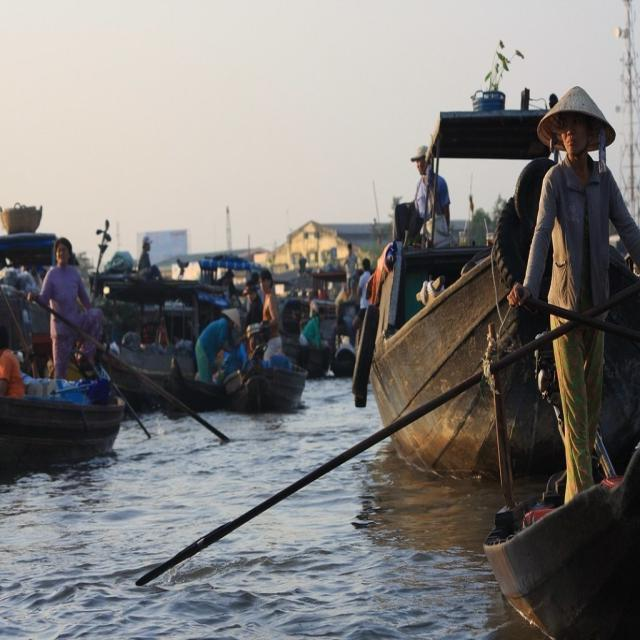boat: (103, 356, 311, 421), (3, 374, 120, 475)
